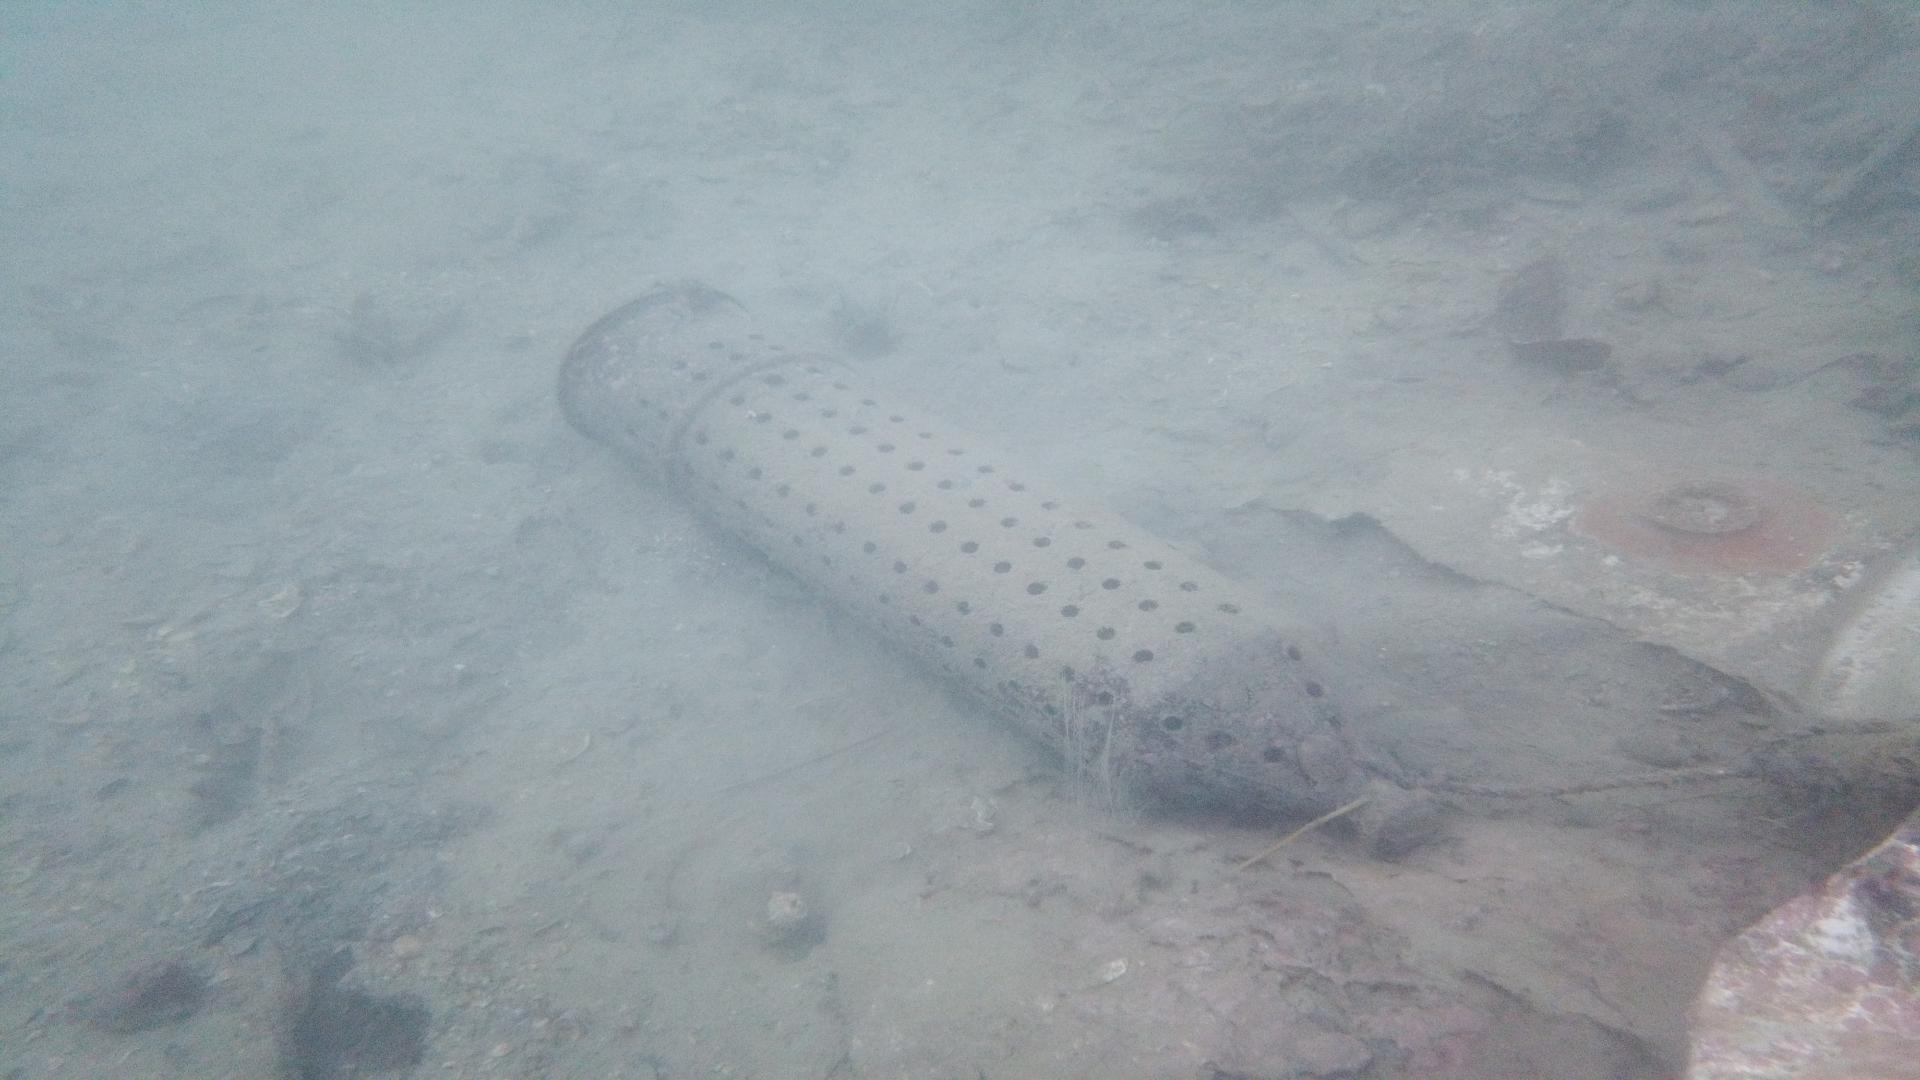bundle of ropes: (1396, 709, 1920, 803)
eel fish trap: (545, 266, 1443, 861)
